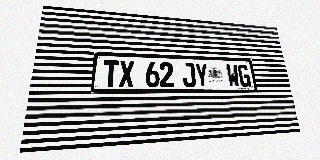2: (160, 62, 174, 87)
6: (145, 61, 160, 87)
G: (237, 64, 251, 87)
J: (182, 62, 196, 87)
T: (102, 60, 119, 87)
W: (225, 64, 240, 87)
X: (119, 60, 134, 87)
Y: (195, 63, 209, 87)
